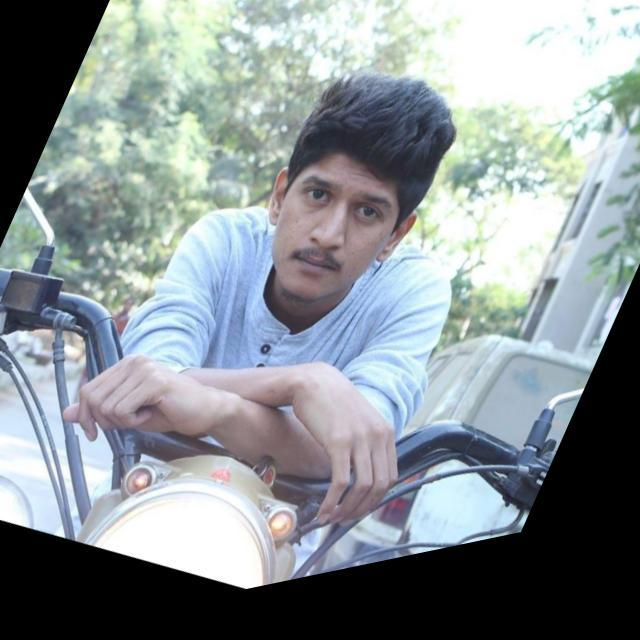Nonhelmet: (262, 68, 458, 304)
